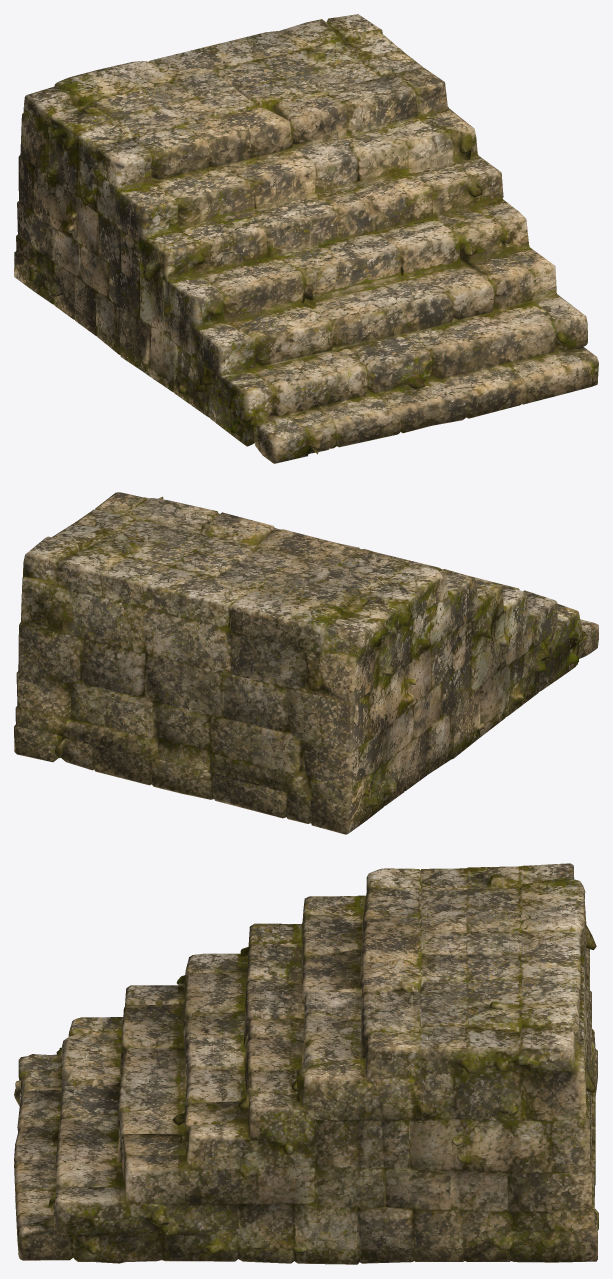
Rendered from ARQ_EscalinataMaya_01_LOD0.fbx.
3 renders of one model, top to bottom at view 1: azimuth 30°, elevation 25°; view 2: azimuth 150°, elevation 25°; view 3: azimuth 270°, elevation 25°, orthographic. The views are drawn at different scales.
Parts seen in each view (by area): view 1: ARQ_EscalinataMaya_01_Mesh000; view 2: ARQ_EscalinataMaya_01_Mesh000; view 3: ARQ_EscalinataMaya_01_Mesh000.
Part boxes in pixels (left/top/right/bottom): ARQ_EscalinataMaya_01_Mesh000: left=14, top=14, right=598, bottom=463; ARQ_EscalinataMaya_01_Mesh000: left=14, top=492, right=598, bottom=834; ARQ_EscalinataMaya_01_Mesh000: left=14, top=863, right=598, bottom=1264.
Bounding box in the file's own units: 3 × 1.62 × 3.84.
